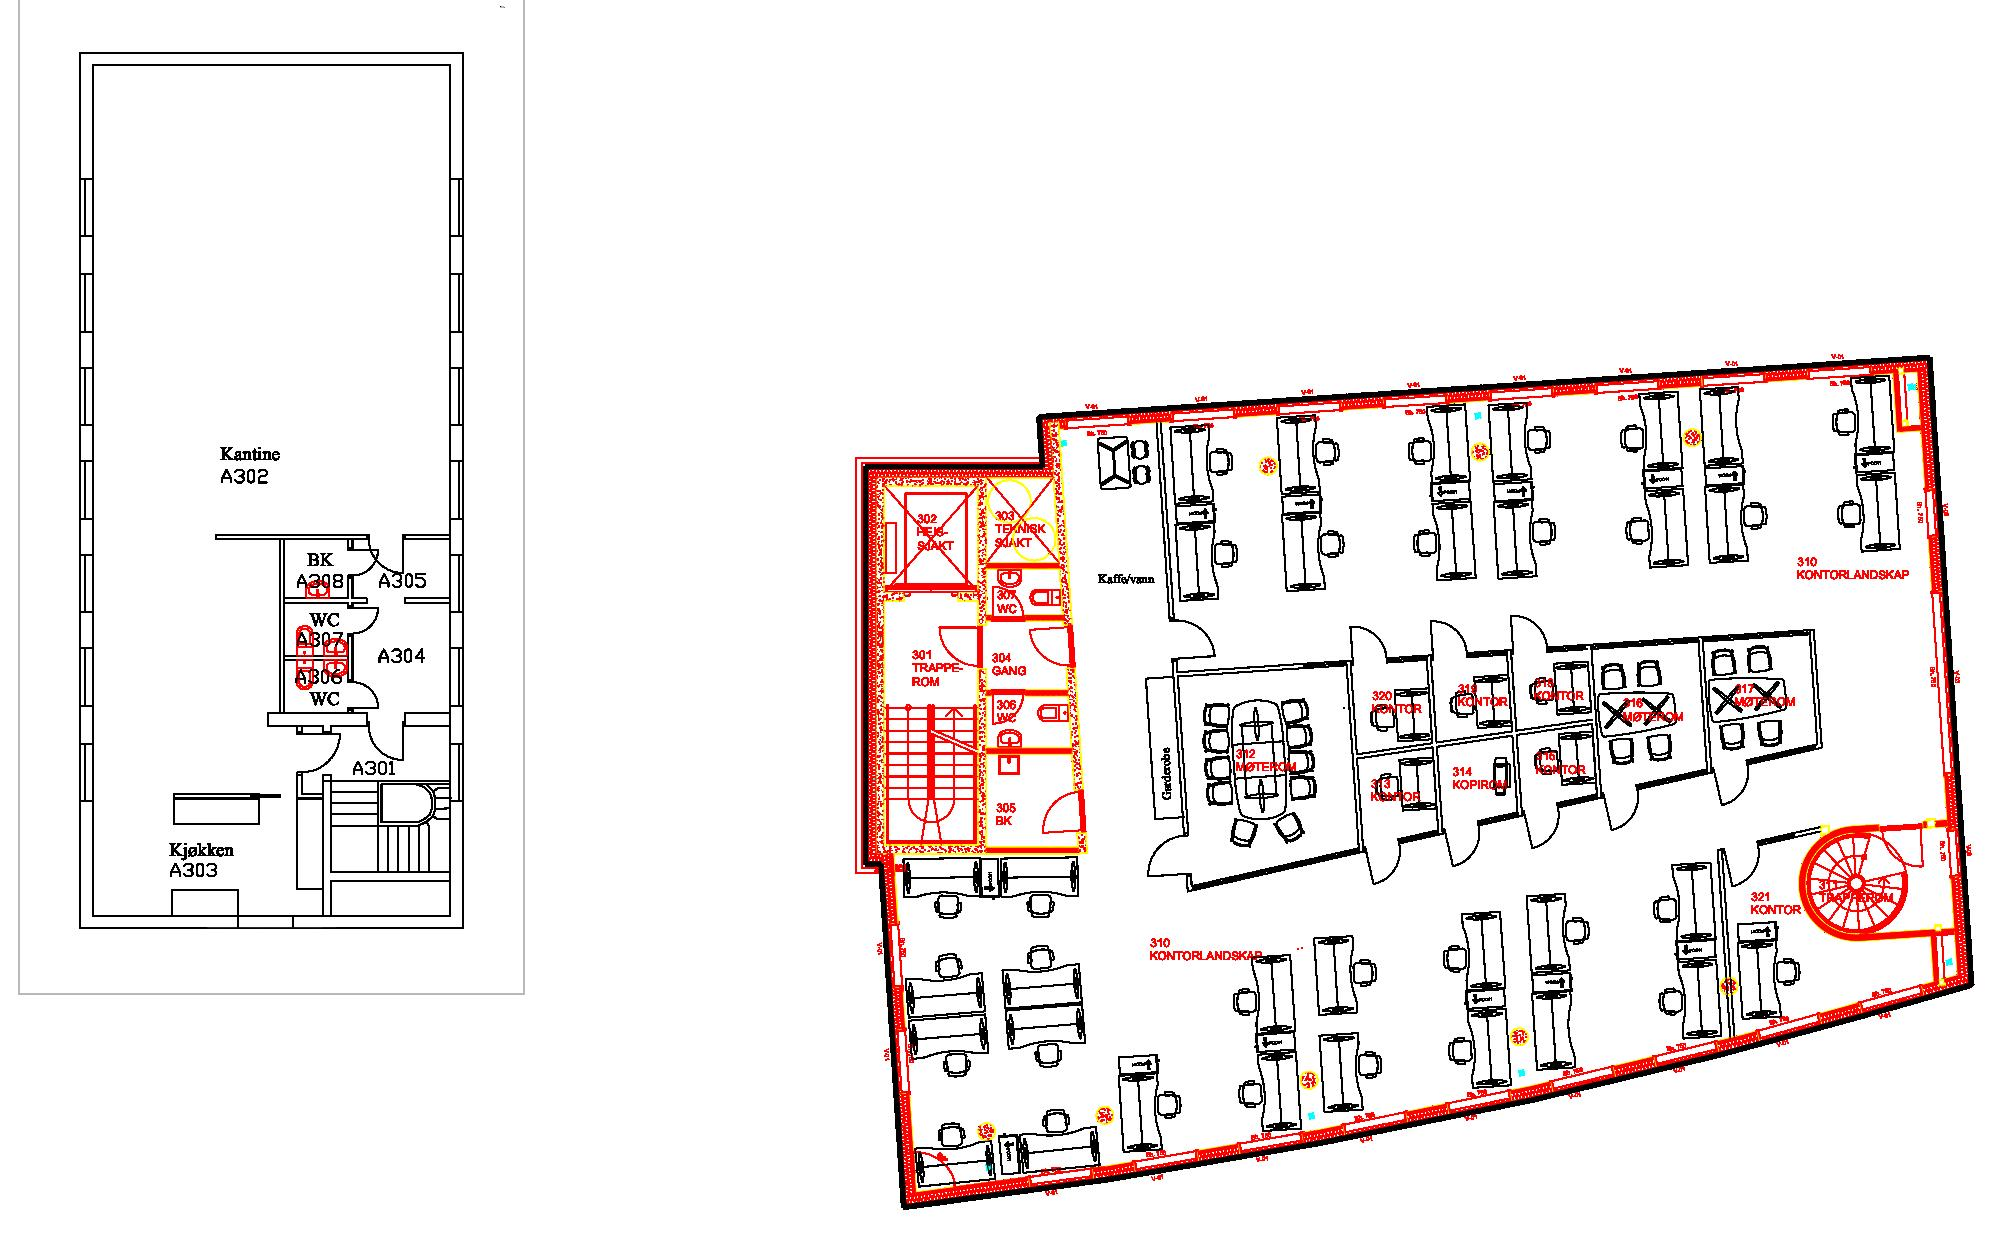room: (1155, 668, 1354, 882), (1595, 634, 1707, 799), (1700, 637, 1817, 770), (349, 598, 453, 719), (883, 585, 979, 707), (986, 750, 1083, 851), (1353, 752, 1436, 851), (1346, 655, 1432, 746), (1434, 739, 1516, 831), (1514, 727, 1597, 813), (1429, 654, 1514, 734), (351, 536, 451, 601), (1508, 645, 1593, 720), (985, 619, 1071, 693), (986, 690, 1073, 752), (282, 536, 349, 601), (282, 657, 349, 719), (282, 599, 351, 658)
